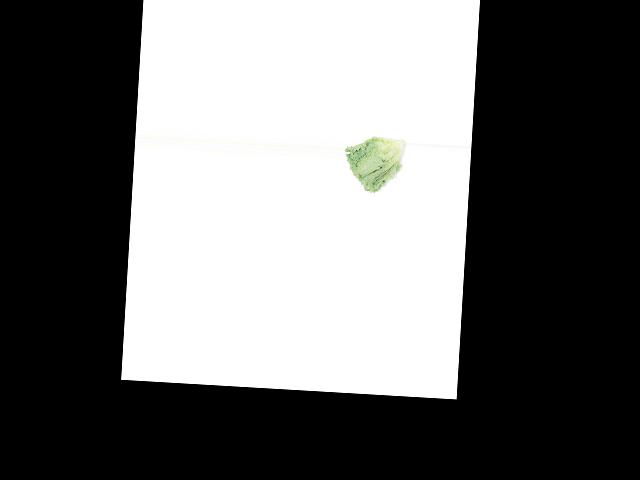lettuce: (342, 130, 407, 199)
